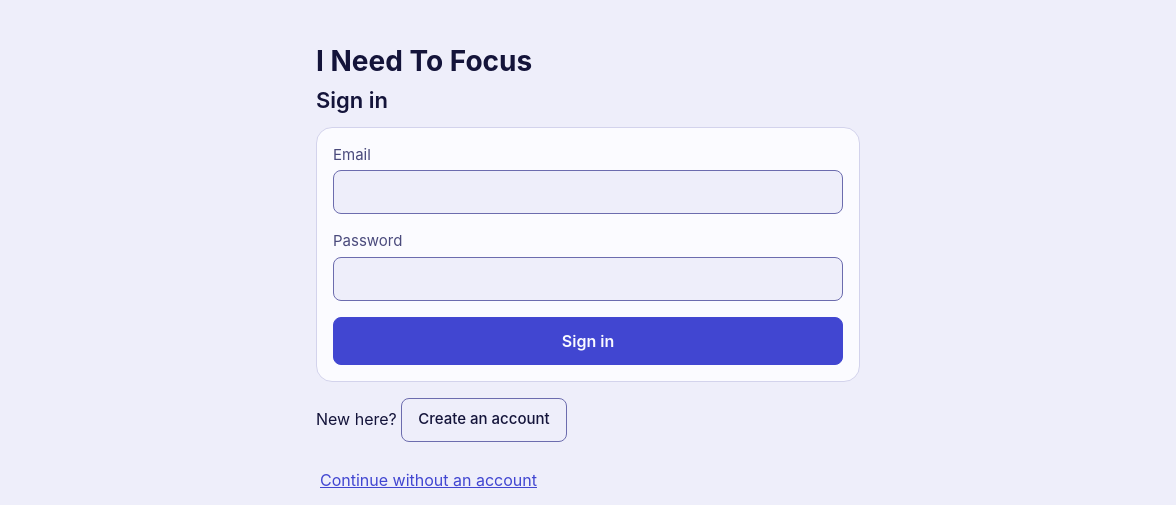
Test: AuthGate › signs in with the trimmed email and shows the app
expect the heading "Sign in" is shown: met, box [316,87,388,113]
Type "  a@b.co " into the field labelled "Email".
click(588, 192); type("  a@b.co ")  # box [333,170,843,214]
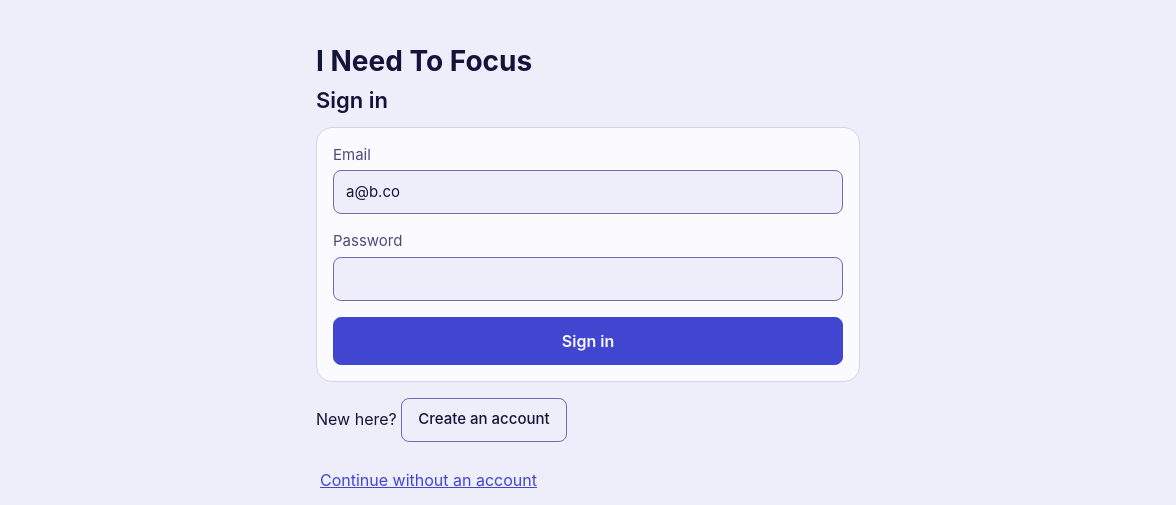
Type "password1" into the password field labelled "Password".
click(588, 278); type("password1")  # box [333,256,843,300]
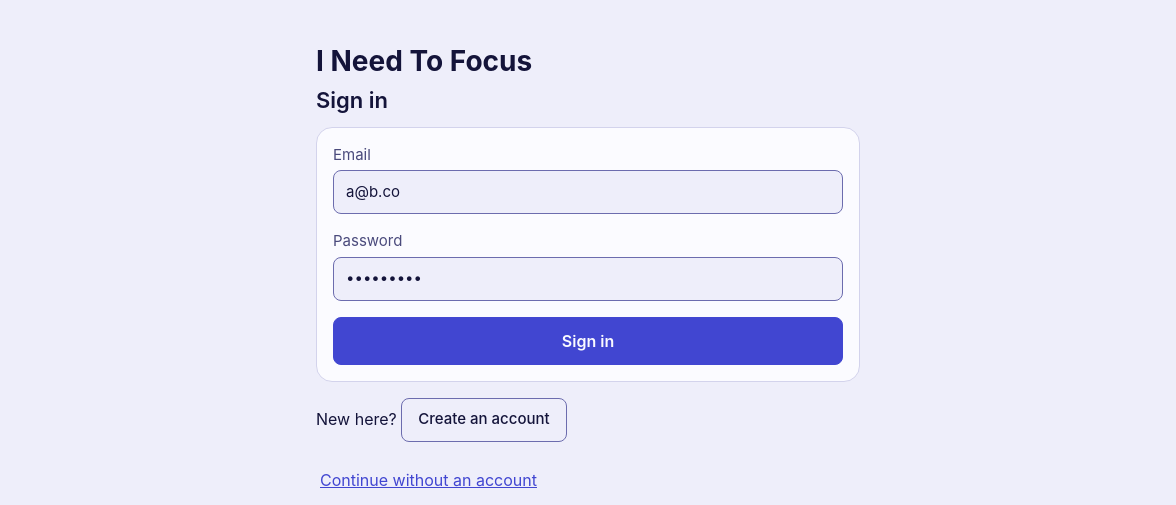
Click the button "Sign in".
click(588, 340)  # box [333,316,843,364]
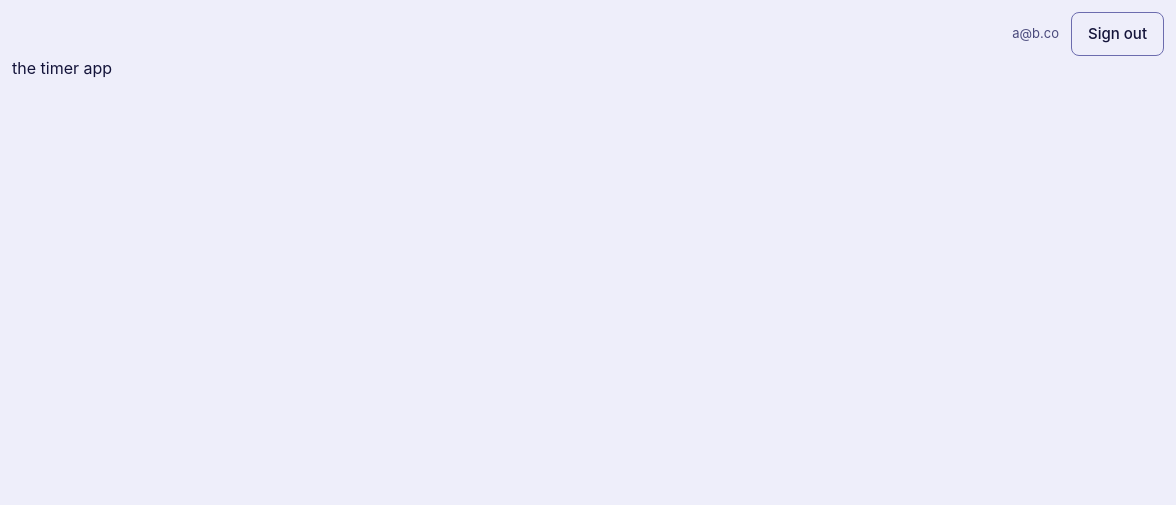
expect the text "the timer app" is shown: met, box [12,58,112,78]
